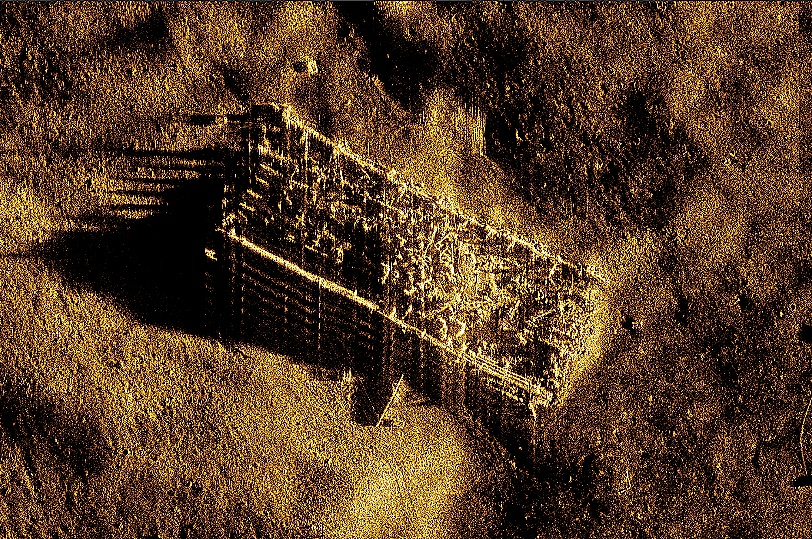ship: (201, 102, 616, 456)
